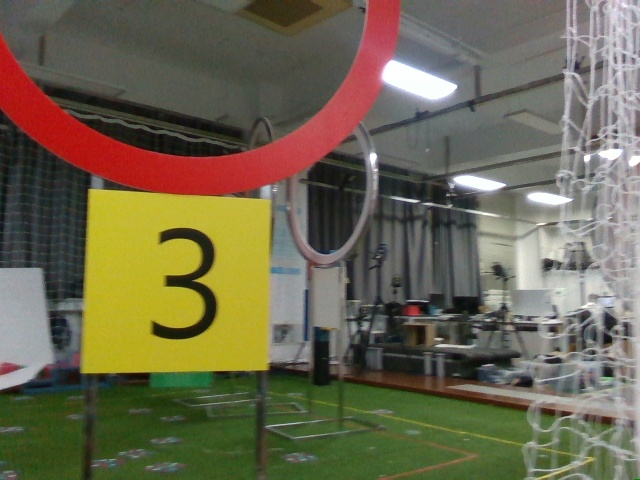target: (90, 212, 264, 363)
